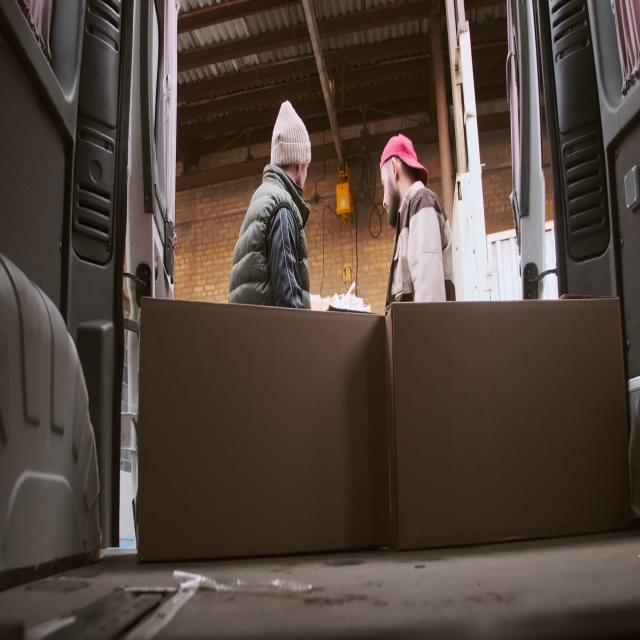counting-the-number-of-boxes: (137, 298, 389, 566), (385, 298, 633, 553)
